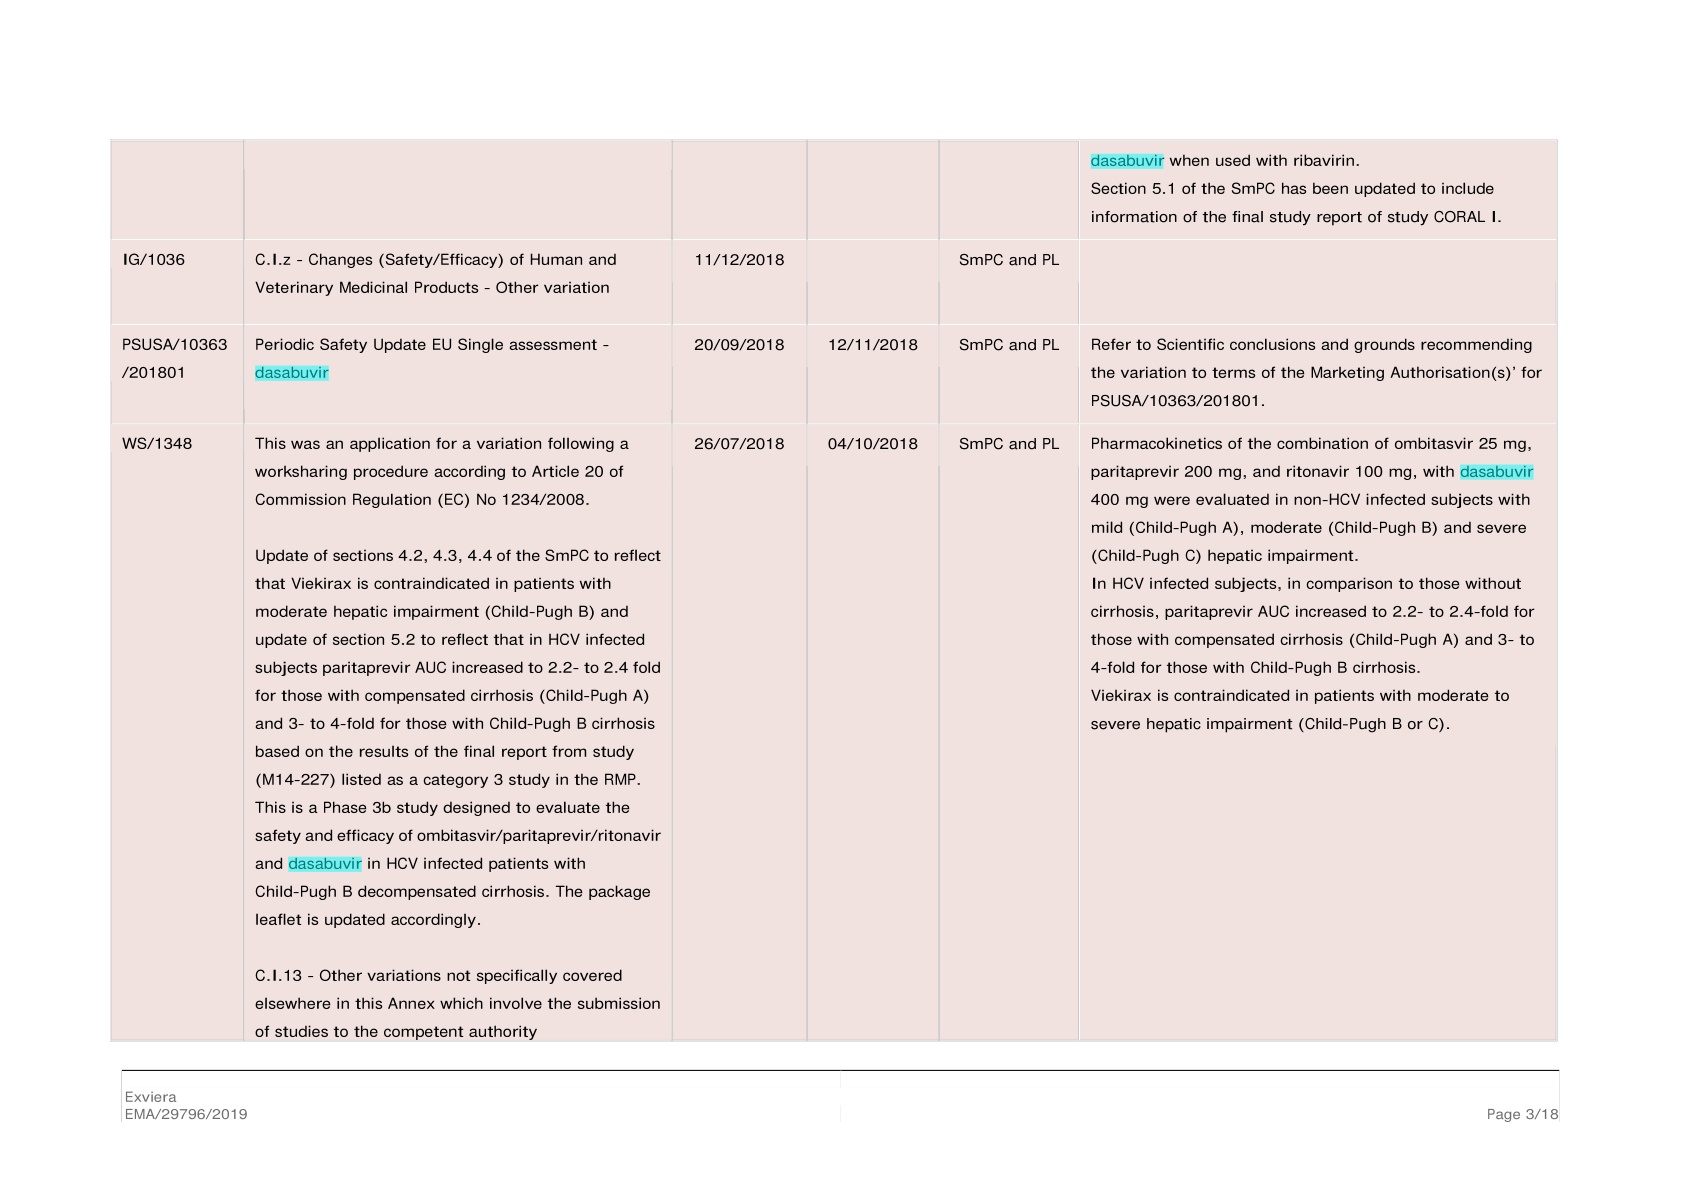full_lined: (109, 139, 1558, 1042)
